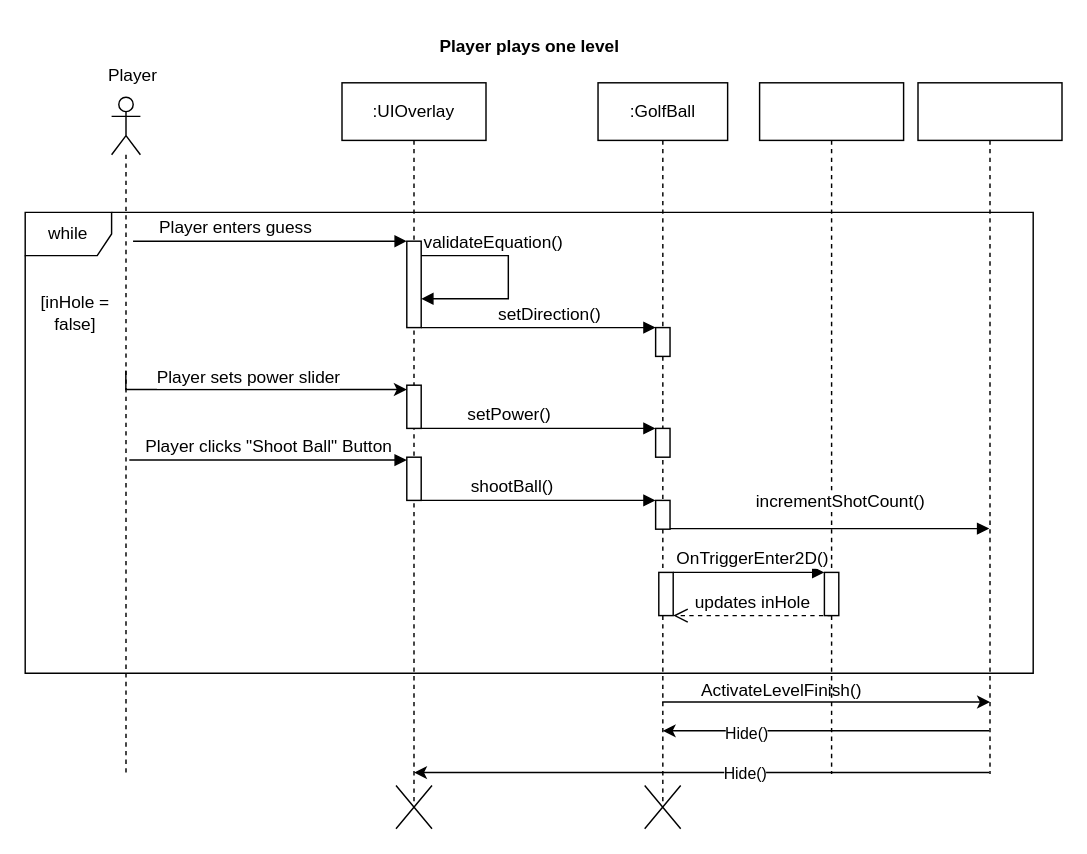
The diagram is 1087 pixels wide and 854 high, and some of its shapes have lost their labels. Here are the shapes that lost their labels. From the top down, the box of each, then its label:
(758, 81, 904, 774): :Goal
(917, 81, 1062, 774): :UserInterface
